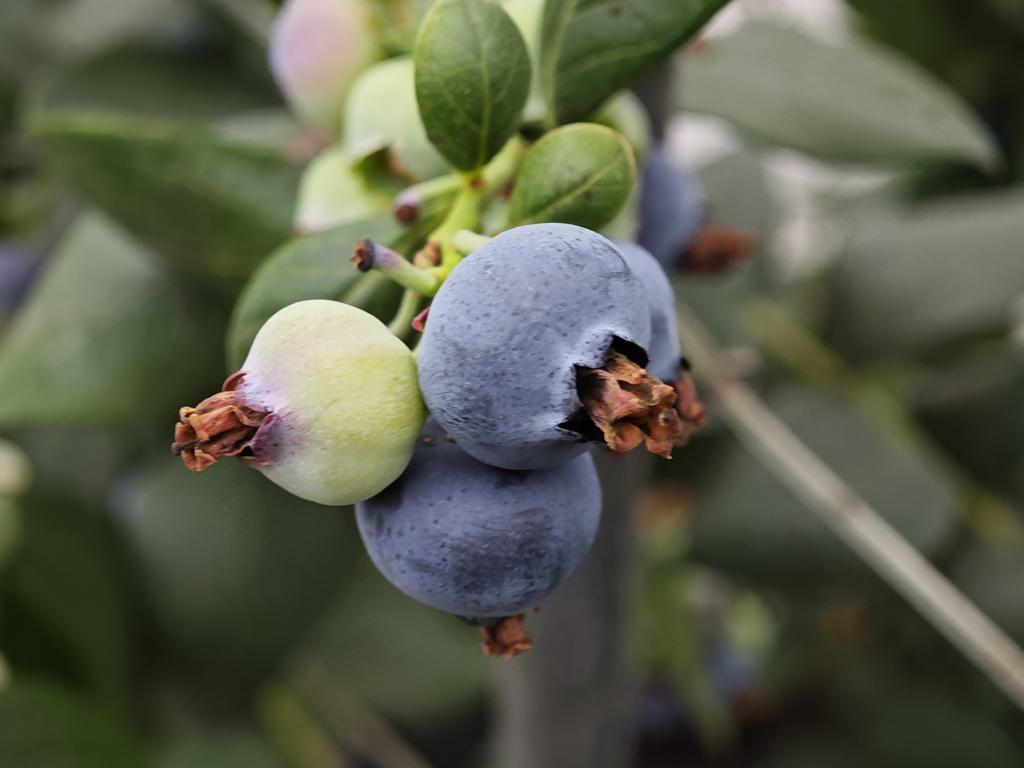RipeBlueBerry: (418, 219, 657, 474), (352, 439, 607, 639)
UnripeBlueBerry: (225, 293, 423, 510)
